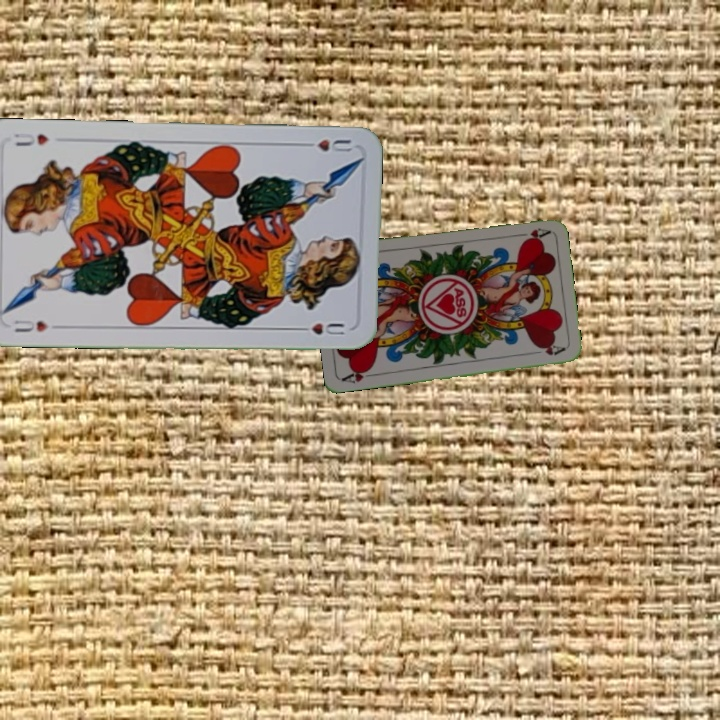HA: (339, 364, 379, 386), (511, 224, 552, 243)
HU: (297, 135, 355, 157), (10, 315, 51, 335)
